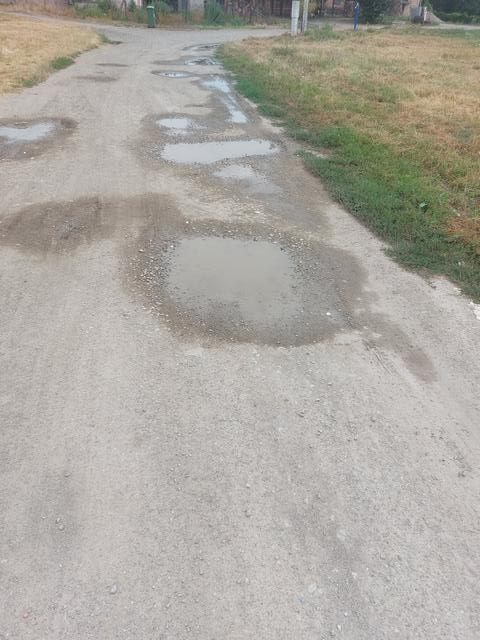pothole: (145, 220, 374, 341), (152, 114, 311, 182), (197, 70, 251, 135), (0, 104, 60, 161), (156, 68, 201, 88), (77, 69, 116, 89), (111, 59, 134, 78), (191, 58, 223, 70), (193, 45, 218, 59)
